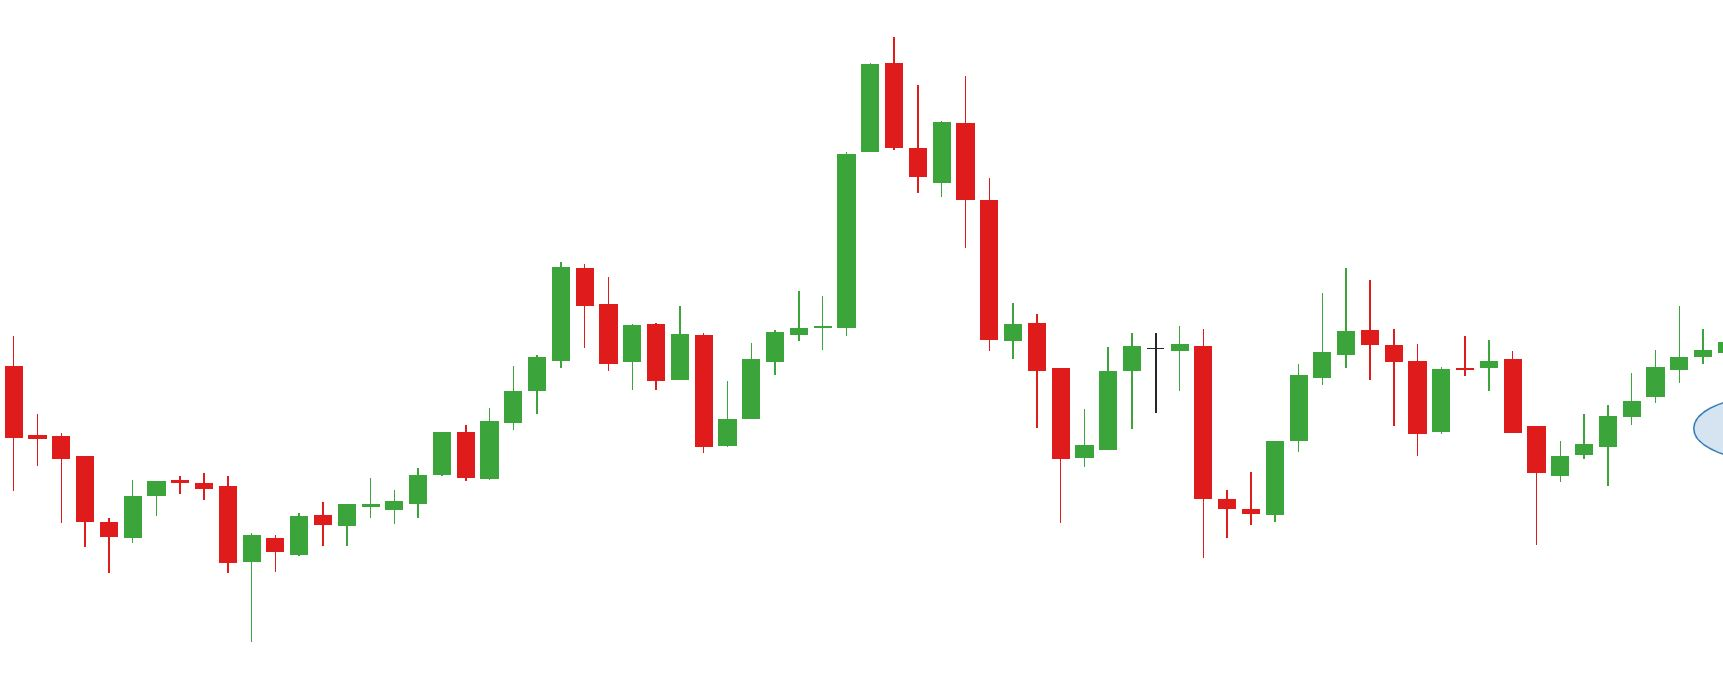buy: (1044, 380, 1287, 569), (104, 490, 264, 647)
